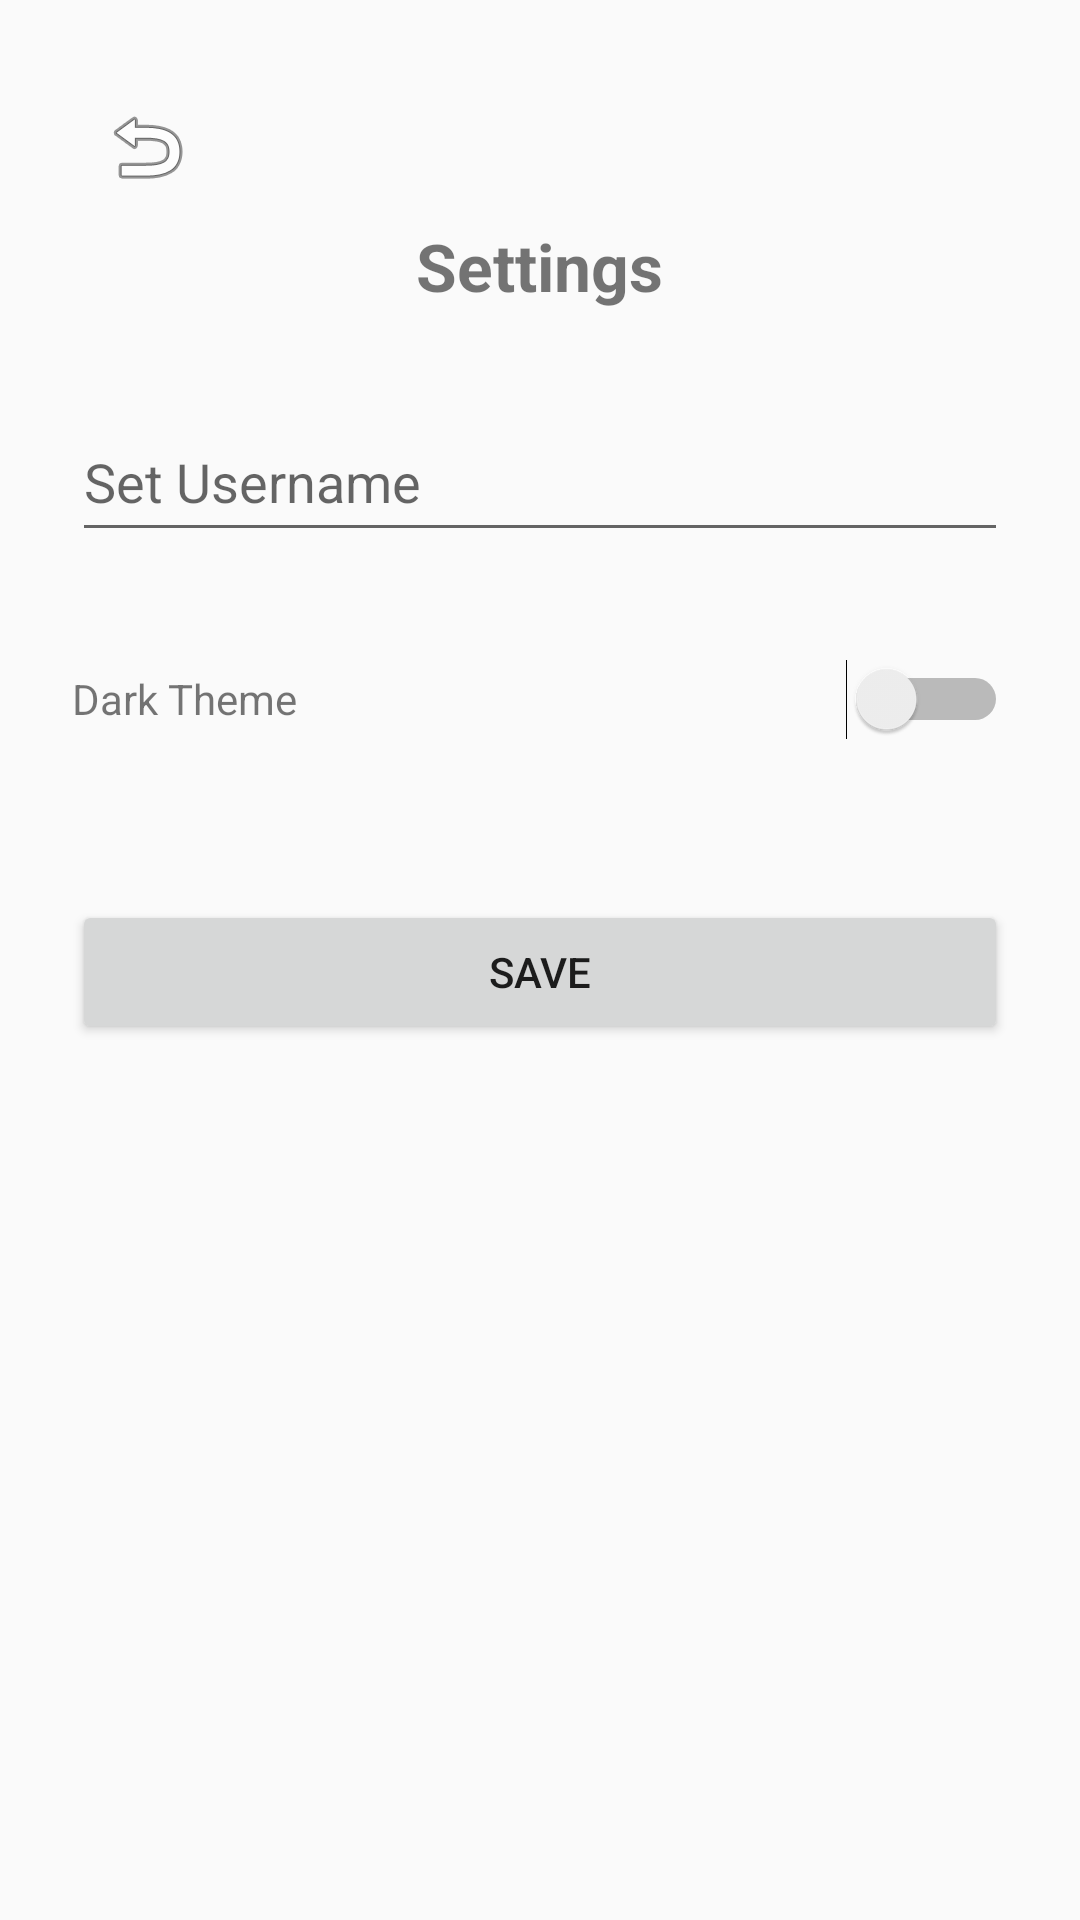

Named icons in this screenshot (1080×1920) and their bounding boxes, detection(x1, y1, x2, y2):
Back: detection(114, 116, 183, 179)
